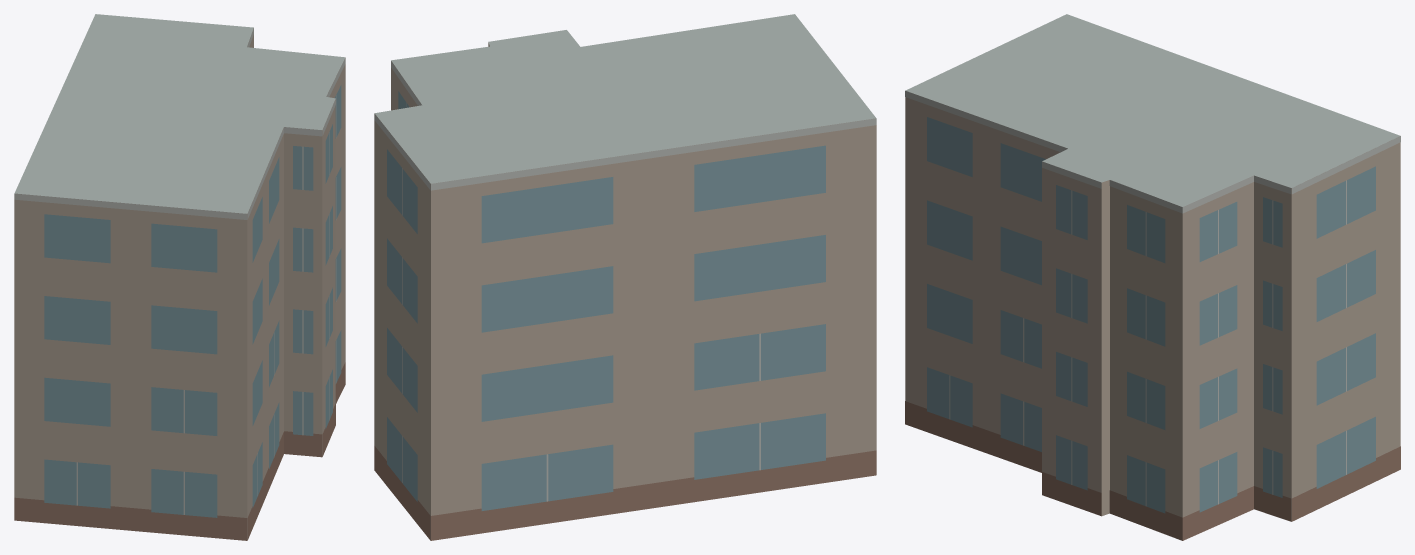
Rendered from survey-upis-33030636.glb.
3 renders of one model, left to right at view 1: azimuth 30°, elevation 25°; view 2: azimuth 150°, elevation 25°; view 3: azimuth 270°, elevation 25°, orthographic. The views are drawn at different scales.
Visible parts, largest first — view 1: survey-upis-33030636.tmp; view 2: survey-upis-33030636.tmp; view 3: survey-upis-33030636.tmp.
Part boxes in pixels (<box>): survey-upis-33030636.tmp: <box>14,14,345,540</box>; survey-upis-33030636.tmp: <box>374,14,876,540</box>; survey-upis-33030636.tmp: <box>905,14,1400,540</box>.
Bounding box in the file's own units: 15.9 × 12.8 × 17.23.
